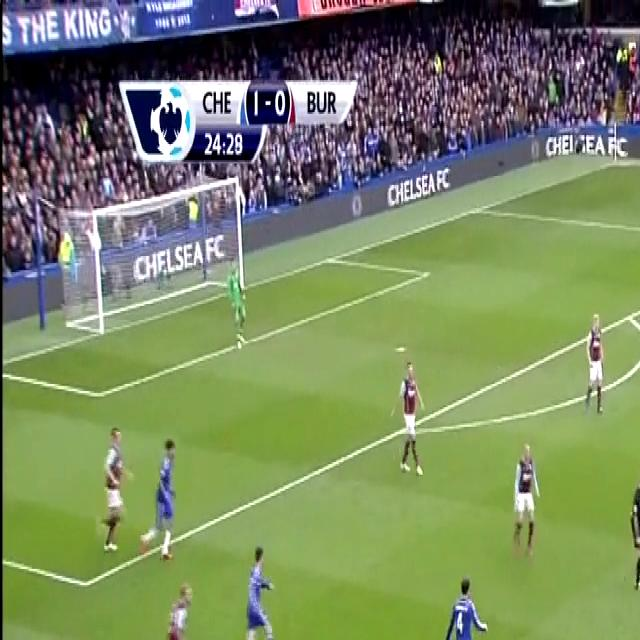goalkeeper: (223, 245, 249, 342)
referee: (624, 453, 640, 603)
soccer-player: (138, 428, 181, 572), (92, 419, 132, 566), (506, 425, 547, 566), (390, 342, 430, 486), (230, 533, 283, 640), (578, 300, 612, 425), (436, 563, 491, 640), (147, 572, 202, 640), (575, 634, 621, 640)
